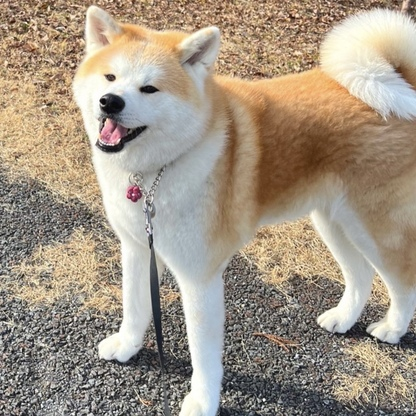akita: (61, 1, 416, 416)
